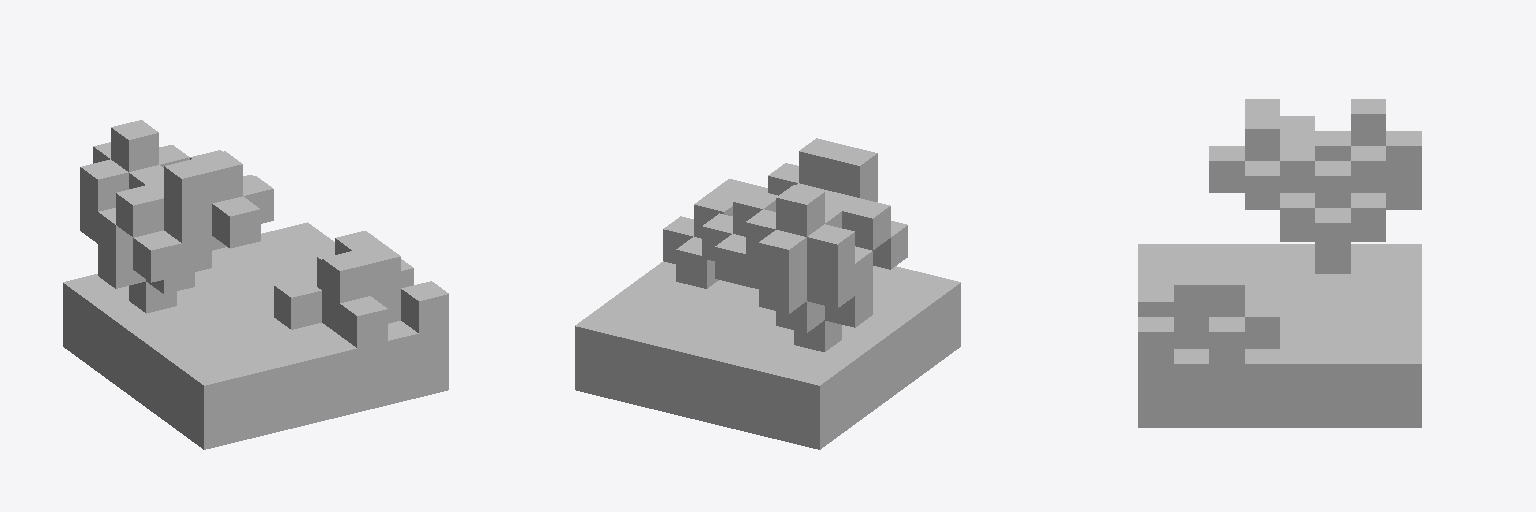
Rendered from uglypathwithTreaBush.obj.
The picture shows the model from 3 angles: view 1: azimuth 30°, elevation 25°; view 2: azimuth 150°, elevation 25°; view 3: azimuth 270°, elevation 25°; orthographic projection.
Visible parts, largest first — view 1: object 1; view 2: object 1; view 3: object 1.
Boxes of the visible parts, <box> form: object 1: <box>63,120,448,449</box>; object 1: <box>575,138,960,449</box>; object 1: <box>1138,99,1421,427</box>.
Size of the model in its own units: 0.8 by 0.7 by 0.8.